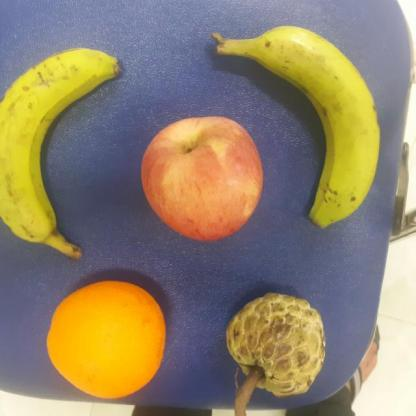annona: (223, 290, 332, 401)
apple: (141, 113, 264, 245)
banana: (0, 46, 137, 250), (265, 21, 379, 232)
orange: (44, 279, 169, 402)
